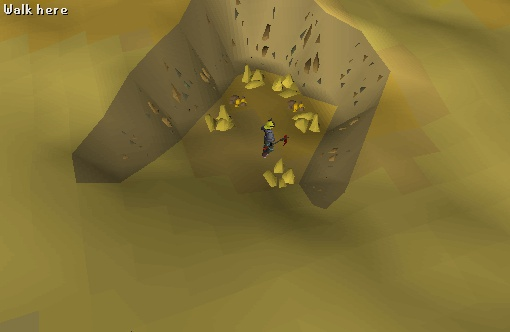gold: (257, 157, 304, 197), (200, 103, 242, 140), (288, 105, 329, 140), (236, 62, 276, 97)
